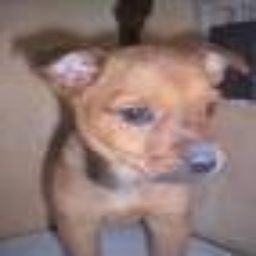dog: (38, 31, 250, 256)
